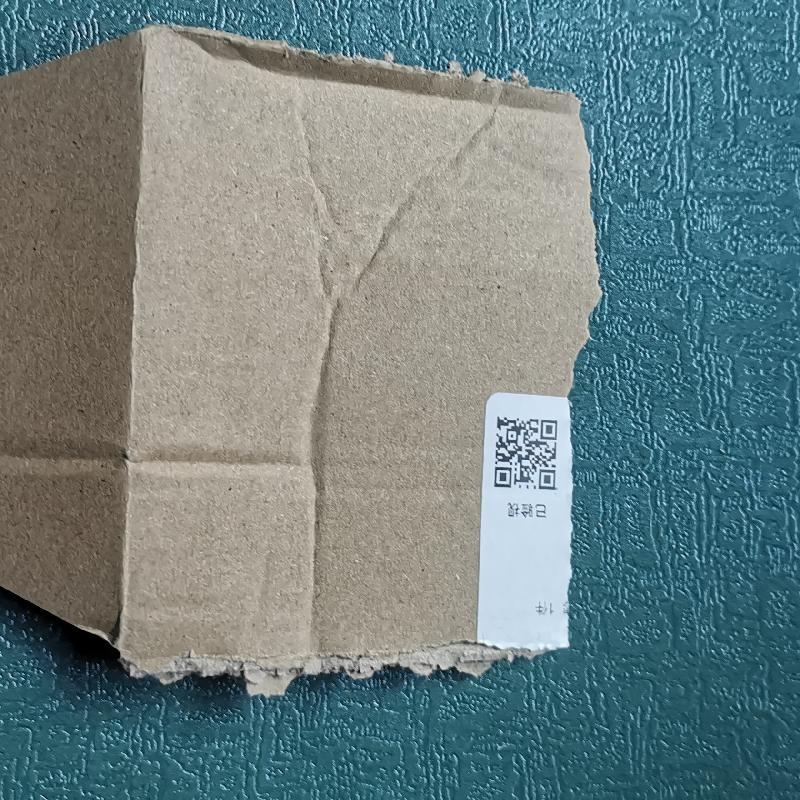boxes: (2, 21, 608, 688)
